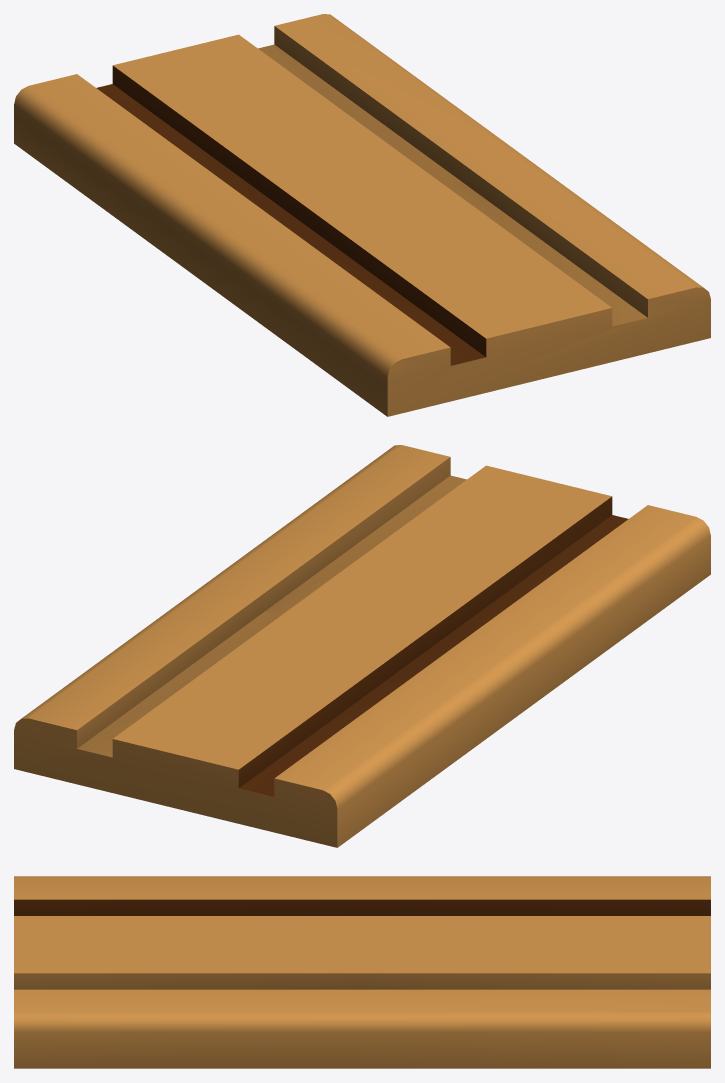
The model's file is ShortStraight.fbx.
3 views of the same model, one above another, from view 1: azimuth 30°, elevation 25°; view 2: azimuth 150°, elevation 25°; view 3: azimuth 270°, elevation 25° (orthographic). The views are drawn at different scales.
Visible parts, largest first — view 1: ShortStraight; view 2: ShortStraight; view 3: ShortStraight.
Part boxes in pixels (x1,y1,x2,y2): ShortStraight: (14, 14, 710, 416); ShortStraight: (14, 445, 710, 847); ShortStraight: (14, 876, 710, 1068).
Size of the model in its own units: 1 by 0.16 by 2.
